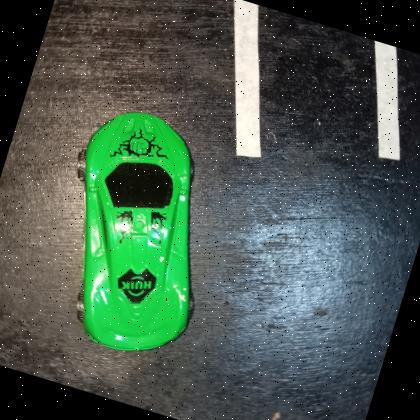Car: (82, 112, 193, 353)
